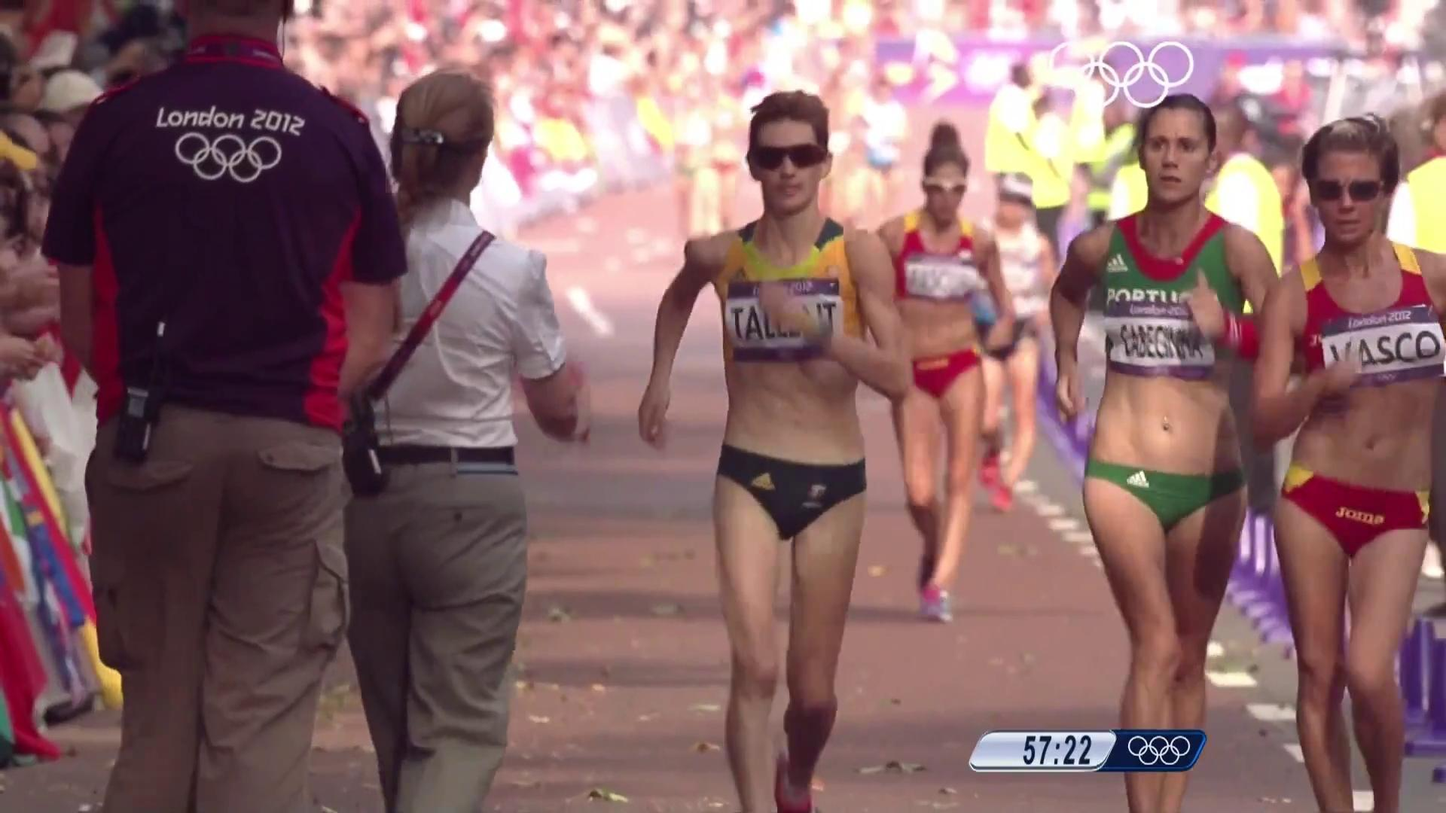victim: (72, 1, 406, 812), (335, 64, 597, 812), (1040, 95, 1293, 810), (1244, 96, 1446, 813), (968, 59, 1040, 261), (851, 69, 912, 236), (1030, 91, 1071, 276), (652, 116, 697, 247), (701, 117, 742, 238)
